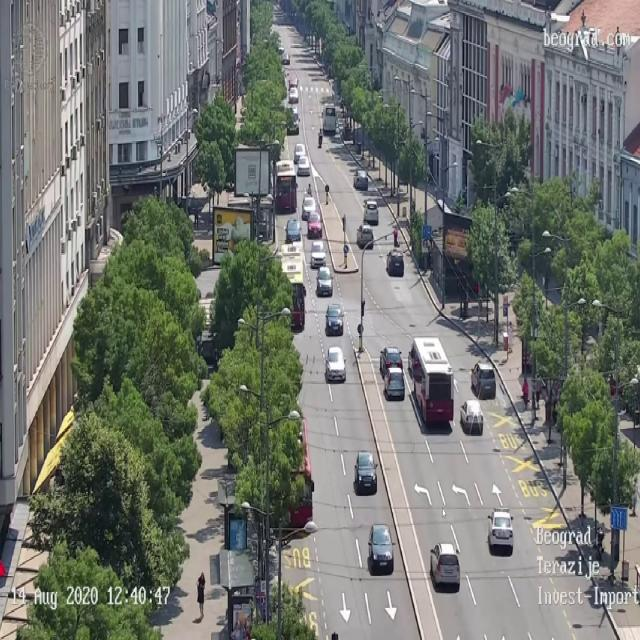bus: (408, 336, 454, 425), (284, 238, 307, 327), (274, 159, 297, 214)
car: (430, 542, 460, 589), (367, 523, 394, 575), (488, 508, 514, 551), (354, 451, 377, 495), (471, 362, 495, 396), (325, 345, 346, 383), (460, 400, 483, 434), (384, 367, 403, 399), (325, 304, 343, 336), (380, 346, 400, 374), (318, 266, 333, 300), (387, 251, 408, 274), (323, 105, 338, 133), (286, 109, 300, 139), (308, 212, 322, 238), (286, 221, 304, 241), (364, 196, 377, 223), (357, 226, 373, 247), (312, 242, 324, 268), (298, 152, 309, 180), (356, 168, 368, 192), (288, 87, 302, 102), (304, 202, 315, 218), (294, 139, 301, 157), (289, 78, 297, 90), (282, 54, 290, 64)
